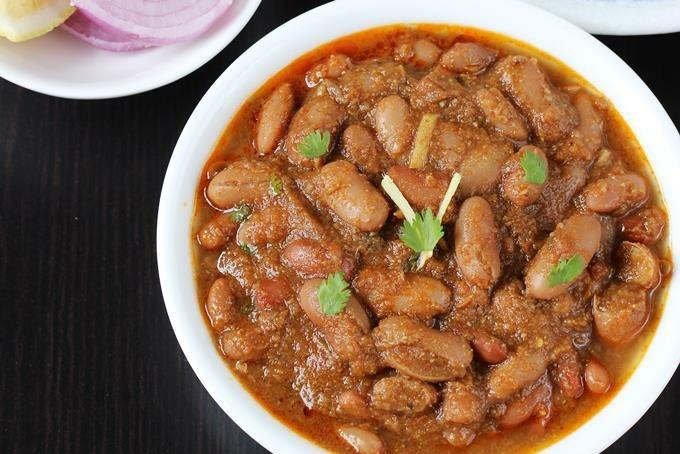RajmaCurry: (194, 23, 671, 454)
